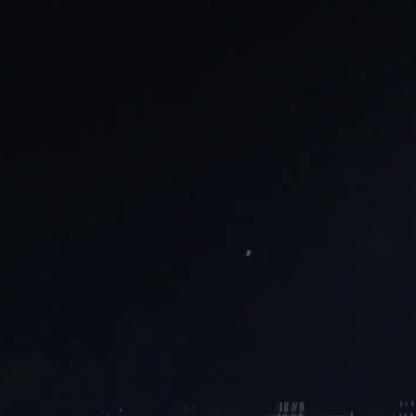ball: (244, 249, 256, 256)
